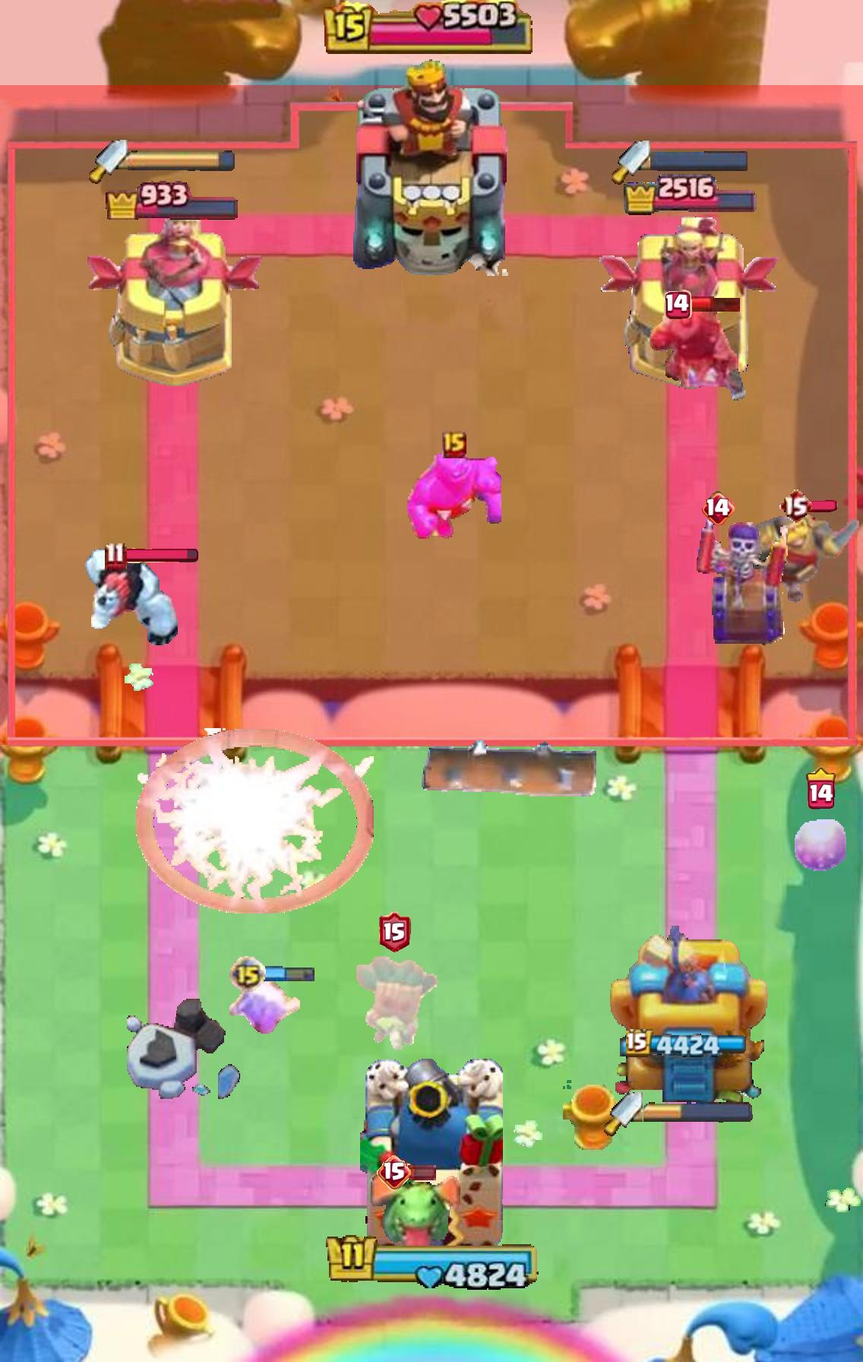bar: (123, 548, 199, 563), (688, 296, 742, 312), (408, 1164, 437, 1181), (809, 500, 838, 513)
bar-level: (379, 911, 411, 952), (806, 766, 835, 809), (377, 1155, 412, 1190), (779, 487, 812, 524), (702, 491, 735, 525), (664, 289, 692, 319), (104, 541, 127, 570), (442, 431, 466, 458)
